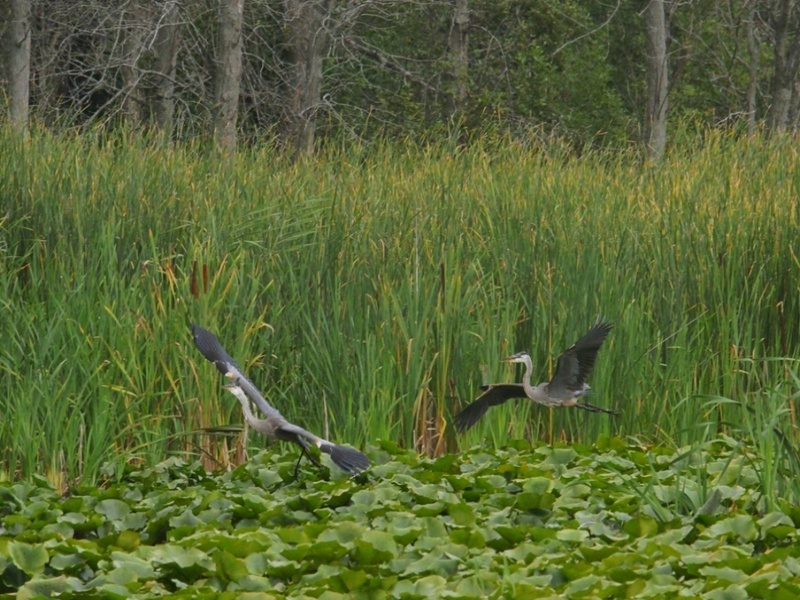heron: (183, 320, 362, 488), (453, 320, 613, 441)
